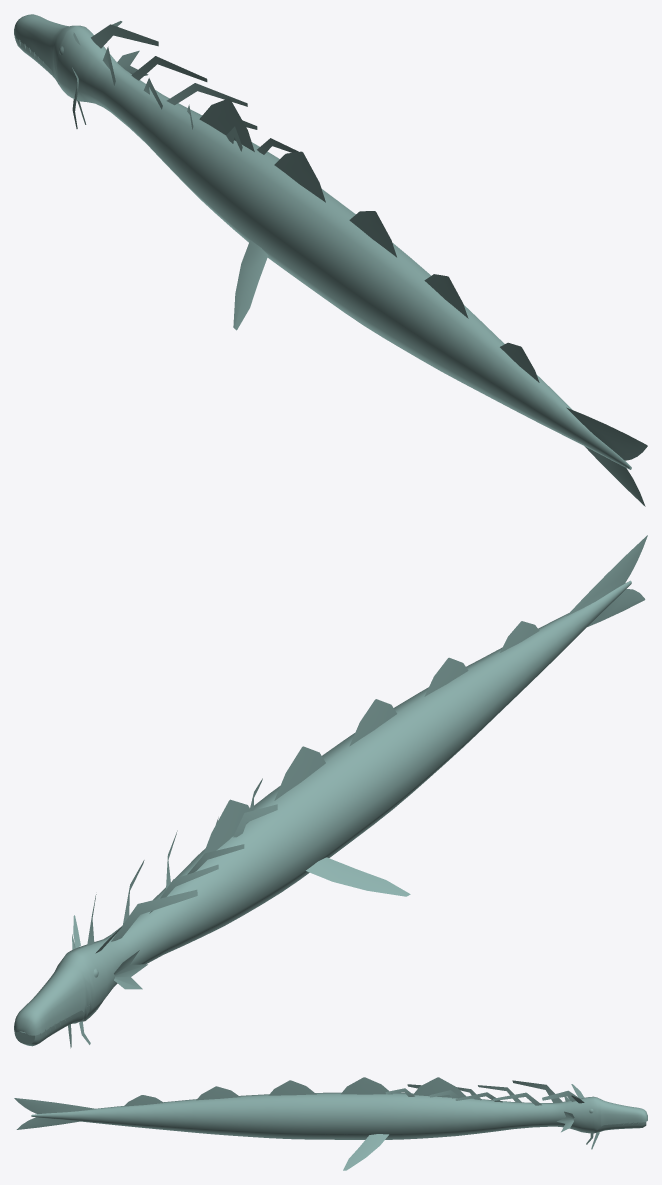
Rendered from sea_serpent_lo.glb.
The picture shows the model from 3 angles, top to bottom: view 1: azimuth 30°, elevation 25°; view 2: azimuth 150°, elevation 25°; view 3: azimuth 270°, elevation 25°; orthographic projection. The views are drawn at different scales.
Parts seen in each view (by area): view 1: sea_serpent_lo; view 2: sea_serpent_lo; view 3: sea_serpent_lo.
Part boxes in pixels (<box>): sea_serpent_lo: <box>14,14,647,506</box>; sea_serpent_lo: <box>14,535,647,1048</box>; sea_serpent_lo: <box>14,1077,647,1170</box>.
Bounding box in the file's own units: 4.02 × 3.13 × 24.99.
